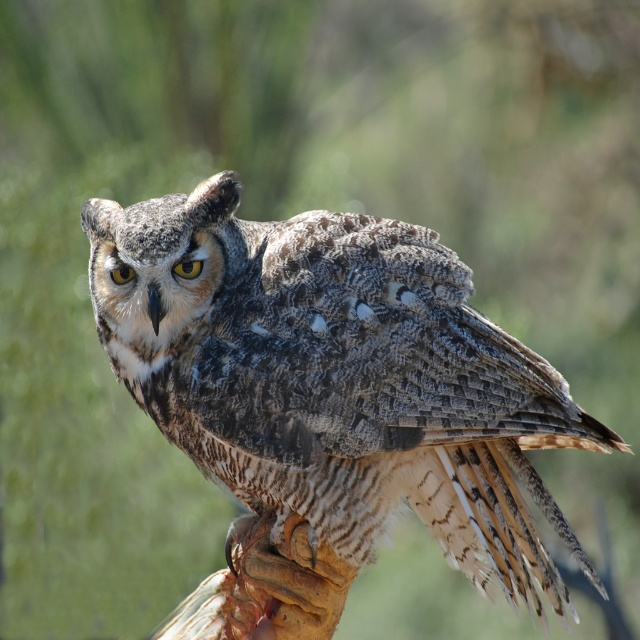Owl: (75, 167, 635, 638)
